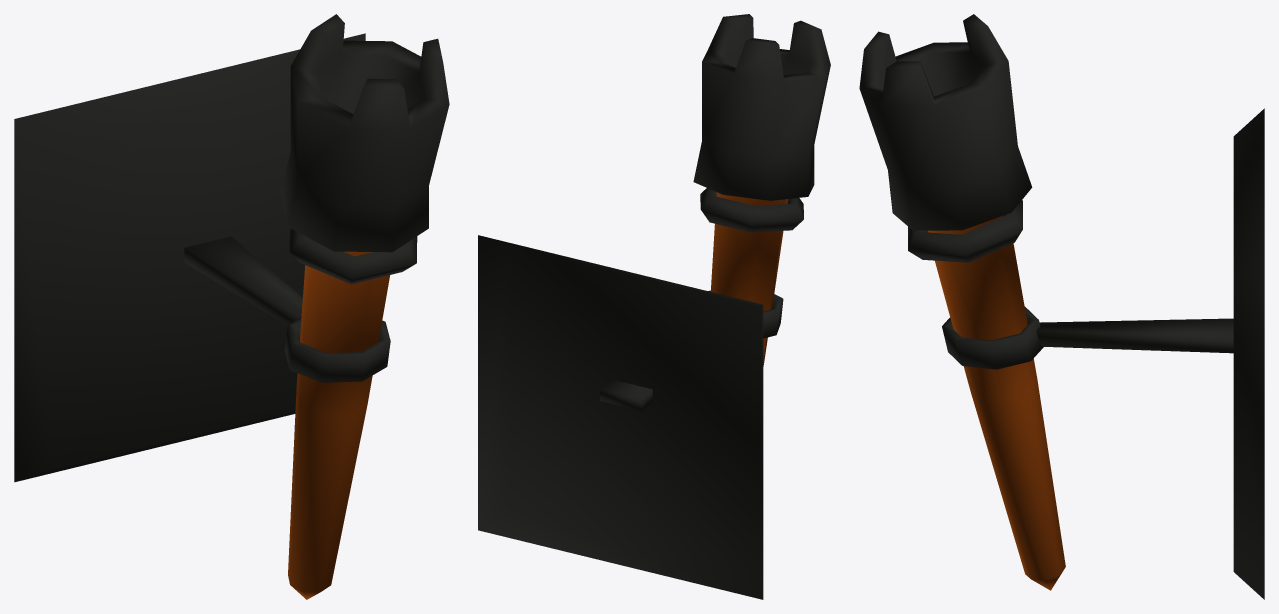
The model's file is CartoonTorch.fbx.
The picture shows the model from 3 angles, left to right: view 1: azimuth 30°, elevation 25°; view 2: azimuth 150°, elevation 25°; view 3: azimuth 270°, elevation 25°; orthographic projection. The views are drawn at different scales.
Parts seen in each view (by area): view 1: CartoonTorch; view 2: CartoonTorch; view 3: CartoonTorch.
Boxes of the visible parts, x1,y1,x2,y2 form: CartoonTorch: (14, 14, 449, 599); CartoonTorch: (478, 14, 830, 599); CartoonTorch: (859, 14, 1264, 599).
Bounding box in the file's own units: 32.19 × 53.6 × 34.97.
